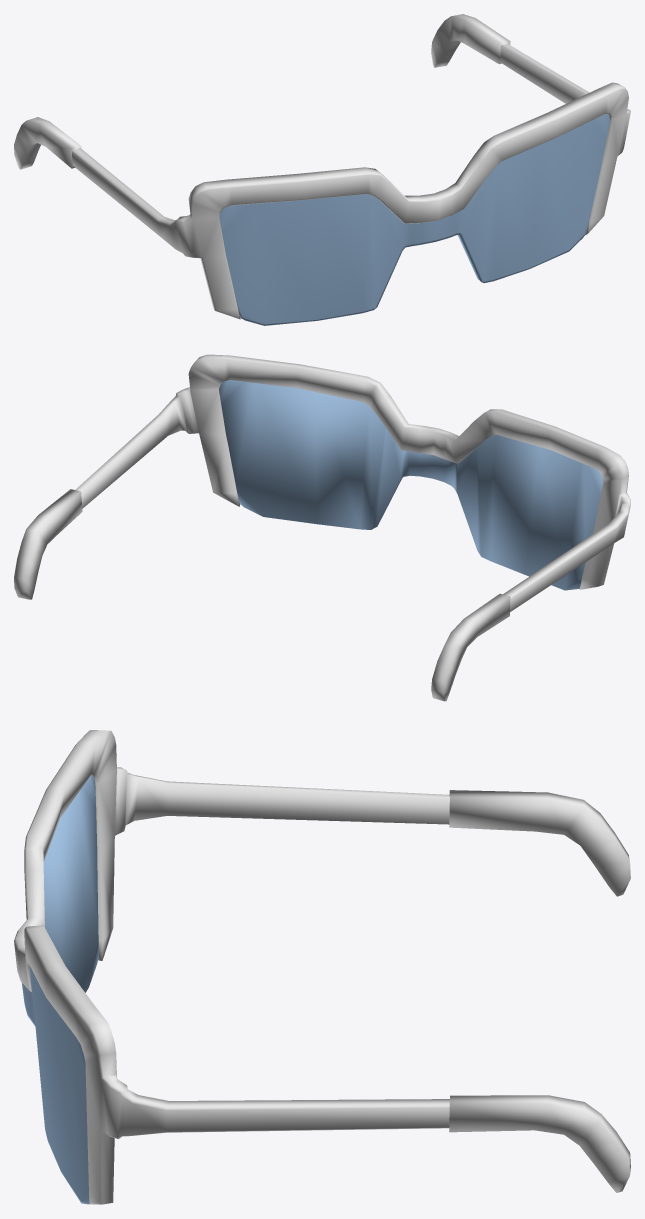
File: robot toekomstige bril.fbx
3 views of the same model, one above another, from view 1: azimuth 30°, elevation 25°; view 2: azimuth 150°, elevation 25°; view 3: azimuth 270°, elevation 25° (orthographic). The views are drawn at different scales.
Visible parts, largest first — view 1: 2; view 2: 2; view 3: 2.
Boxes of the visible parts, bbox=[...] form: 2: bbox=[14, 14, 630, 325]; 2: bbox=[14, 354, 630, 701]; 2: bbox=[14, 730, 630, 1204].
Size of the model in its own units: 0.545 by 0.1722 by 0.434.
